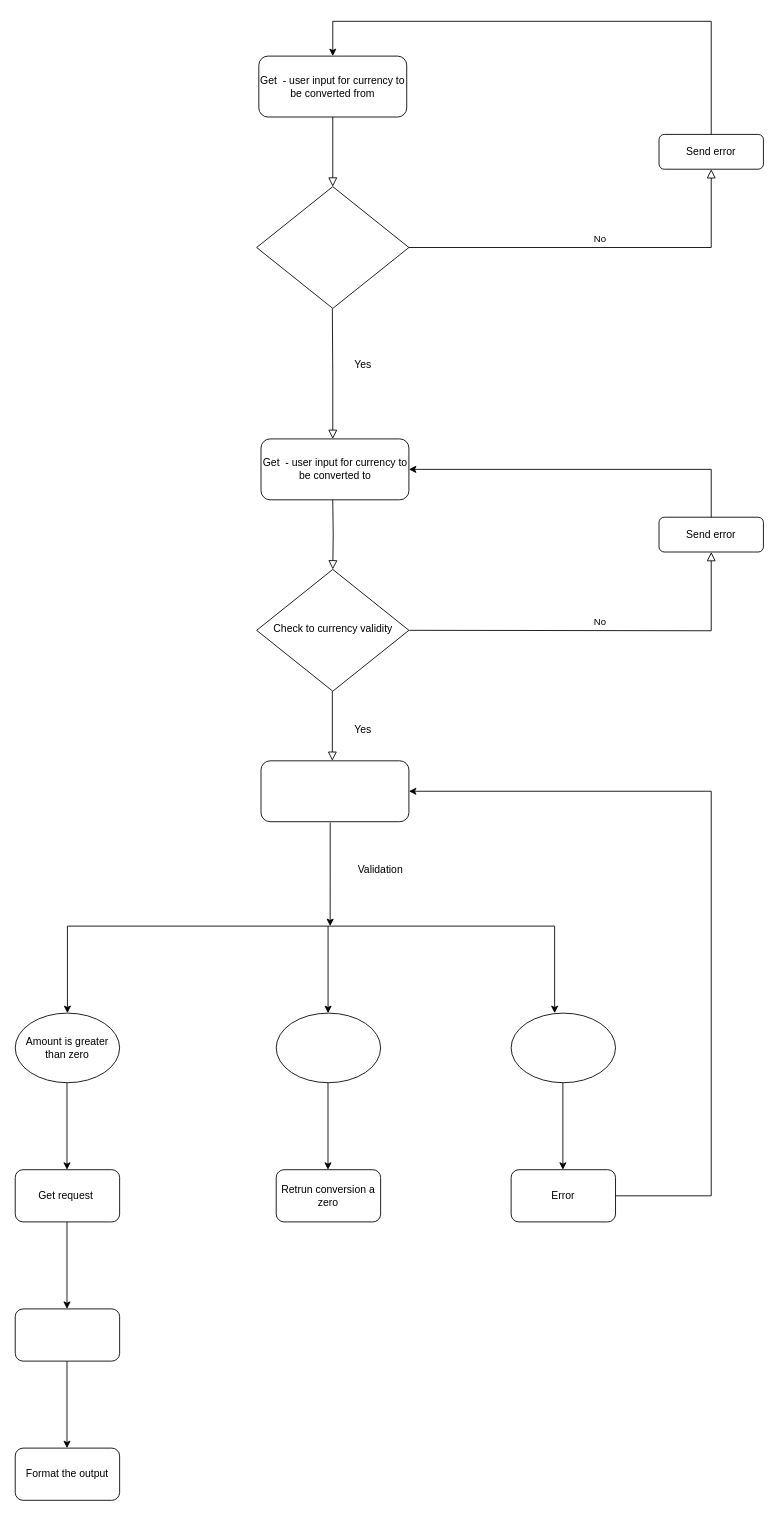
This 779x1516 diagram has some shape labels left out. The shapes that lost their labels are listed below. From the top down, each one's centre as x and y in pixels, then its label:
(332,247): Check from currency validity
(334,791): Get user input for amound to be converted
(328,1047): Amount is equal to Zero
(563,1047): Amount is less than zero
(67,1334): Run API
